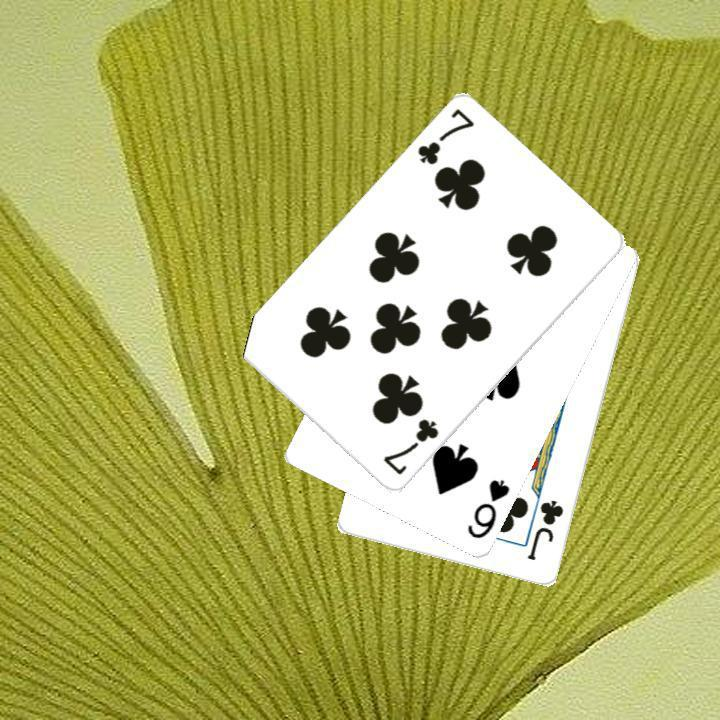6: (463, 475, 512, 542)
7: (412, 104, 477, 168), (379, 414, 441, 478)
J: (523, 496, 566, 564)
